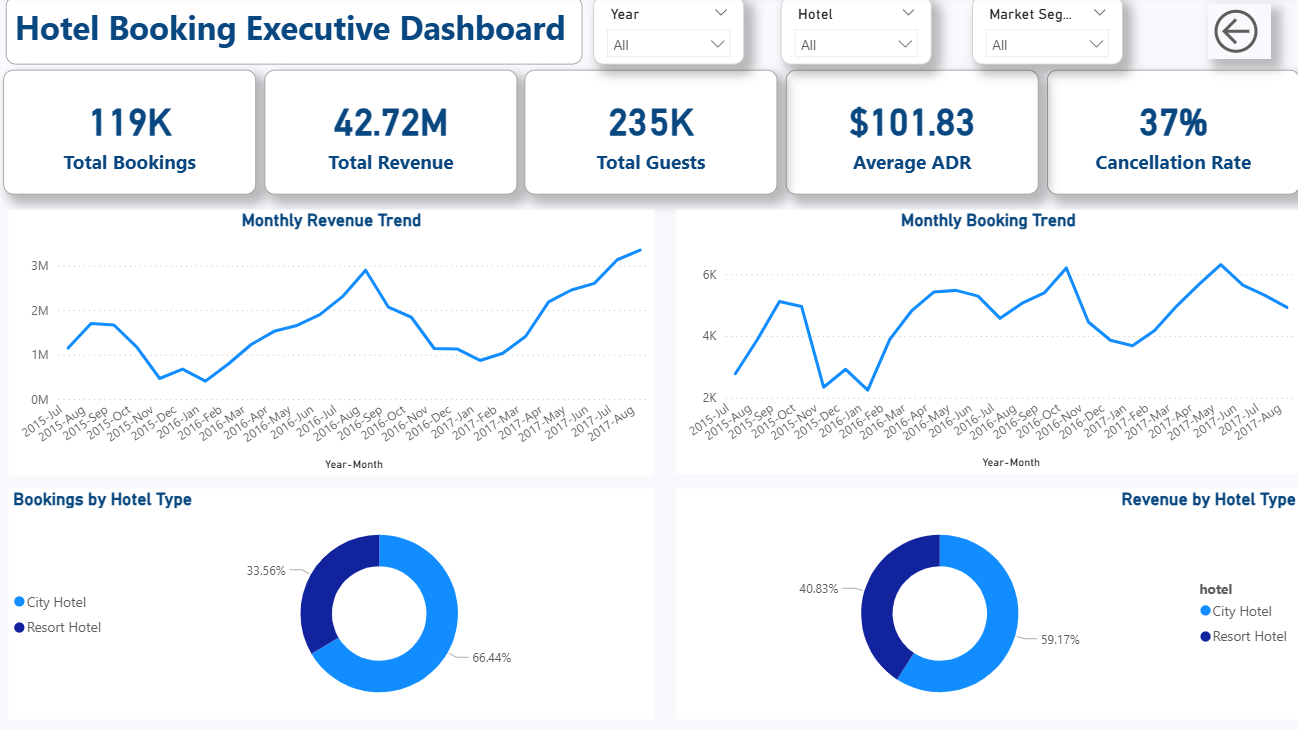

Layout of this report page (visuals, bound fields, positions):
{"tool":"powerbi","page":{"name":"Hotel Booking Analysis ","canvas":[1280,720],"ordinal":1},"visuals":[{"type":"textbox","box":[8.2,0,565.4,67.2],"z":0},{"type":"card","fields":{"Values":["hotel_bookings.Total Bookings"]},"box":[5.9,72.8,248.4,122.1],"z":1000},{"type":"card","fields":{"Values":["hotel_bookings.Total Revenue"]},"box":[261.8,72.8,248.4,122.1],"z":2000},{"type":"card","fields":{"Values":["hotel_bookings.Cancellation Rate"]},"box":[1029.3,72.8,248.4,122.1],"z":3000},{"type":"card","fields":{"Values":["hotel_bookings.Average ADR"]},"box":[773.6,72.8,248.4,122.1],"z":4000},{"type":"card","fields":{"Values":["hotel_bookings.Total Guests"]},"box":[517.7,72.8,248.4,122.1],"z":5000},{"type":"slicer","fields":{"Values":["Dim_Date.Year"]},"box":[584.6,0,148.2,67.2],"z":6000},{"type":"slicer","fields":{"Values":["Dim_Hotel.hotel"]},"box":[768.4,0,148.2,67.2],"z":7000},{"type":"slicer","fields":{"Values":["Dim_MarketSegment.market_segment"]},"box":[956.4,0,148.2,67.2],"z":8000},{"type":"lineChart","title":"Monthly Revenue Trend","fields":{"Y":["hotel_bookings.Total Revenue"],"Category":["Dim_Date.Year-Month"]},"box":[11,209.9,634,260.7],"z":9000},{"type":"lineChart","title":"Monthly Booking Trend","fields":{"Category":["Dim_Date.Year-Month"],"Y":["hotel_bookings.Total Bookings"]},"box":[665.5,209.9,613.4,259.3],"z":10000},{"type":"donutChart","title":"Bookings by Hotel Type","fields":{"Category":["Dim_Hotel.hotel"],"Y":["hotel_bookings.Total Bookings"]},"box":[11,483,632.6,226.4],"z":11000},{"type":"donutChart","title":"Revenue by Hotel Type","fields":{"Category":["Dim_Hotel.hotel"],"Y":["hotel_bookings.Total Revenue"]},"box":[665.5,483,613.4,226.4],"z":12000},{"type":"actionButton","box":[1188.1,6.8,61.3,54.5],"z":13000}]}

Visuals, with their boxes in screenshot pixels (x1, y1, x2, y2), scaled from the page's 1280x720 canvas onto the 1298x730 screenshot:
textbox: 8, 0, 582, 68
card - hotel_bookings.Total Bookings: 6, 74, 258, 198
card - hotel_bookings.Total Revenue: 265, 74, 517, 198
card - hotel_bookings.Cancellation Rate: 1044, 74, 1296, 198
card - hotel_bookings.Average ADR: 784, 74, 1036, 198
card - hotel_bookings.Total Guests: 525, 74, 777, 198
slicer - Dim_Date.Year: 593, 0, 743, 68
slicer - Dim_Hotel.hotel: 779, 0, 929, 68
slicer - Dim_MarketSegment.market_segment: 970, 0, 1120, 68
"Monthly Revenue Trend" lineChart: 11, 213, 654, 477
"Monthly Booking Trend" lineChart: 675, 213, 1297, 476
"Bookings by Hotel Type" donutChart: 11, 490, 653, 719
"Revenue by Hotel Type" donutChart: 675, 490, 1297, 719
actionButton: 1205, 7, 1267, 62
